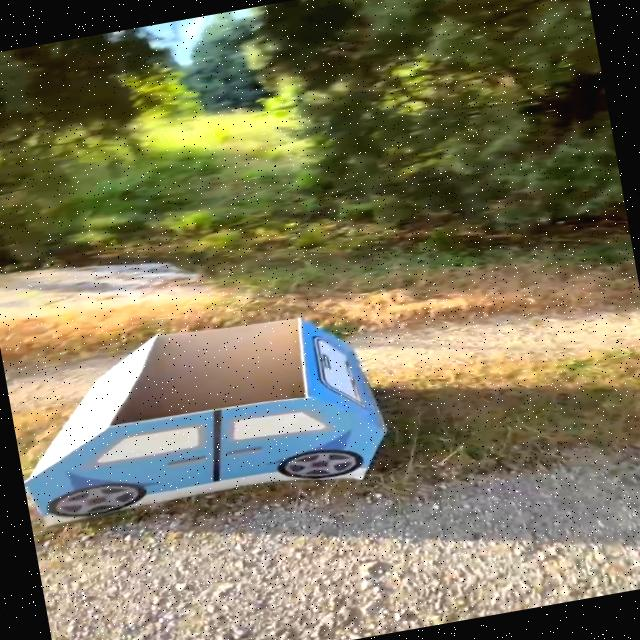blue_car: (0, 249, 441, 567)
